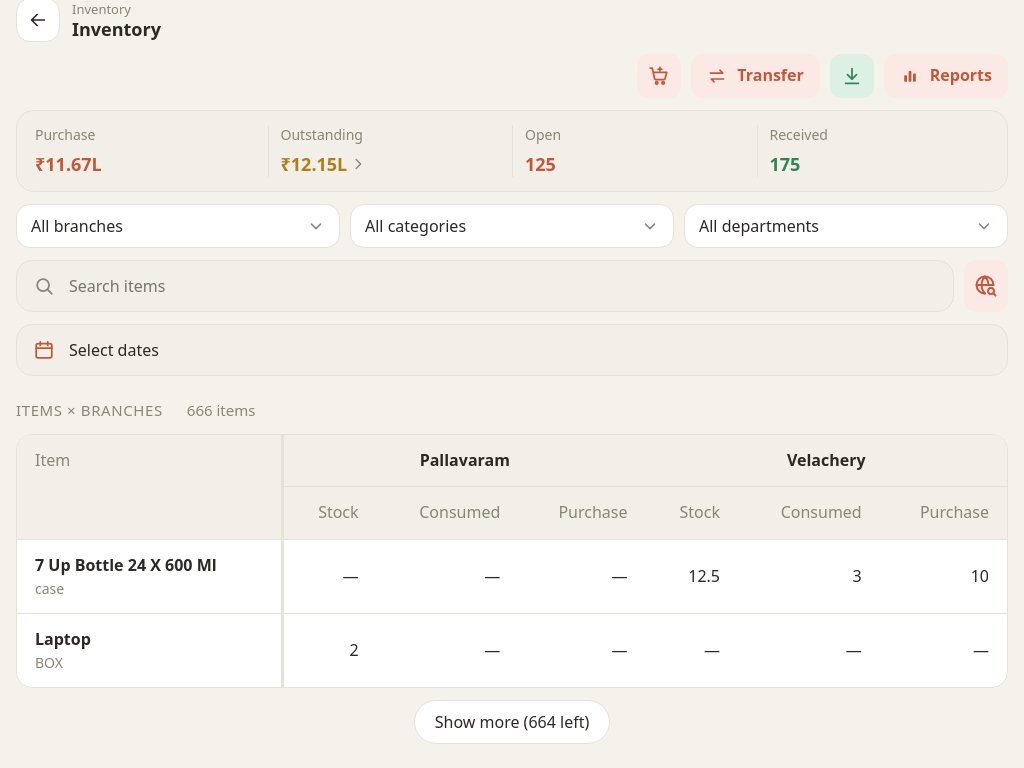
Test: Inventory screen › INV-4. Show more adds the next page under the first
(page scrolled)
Expected: the text "666 items" is shown, [16,400,256,420]
Click the button "Show more (664 left)".
click(512, 722)  # box [414,700,610,744]
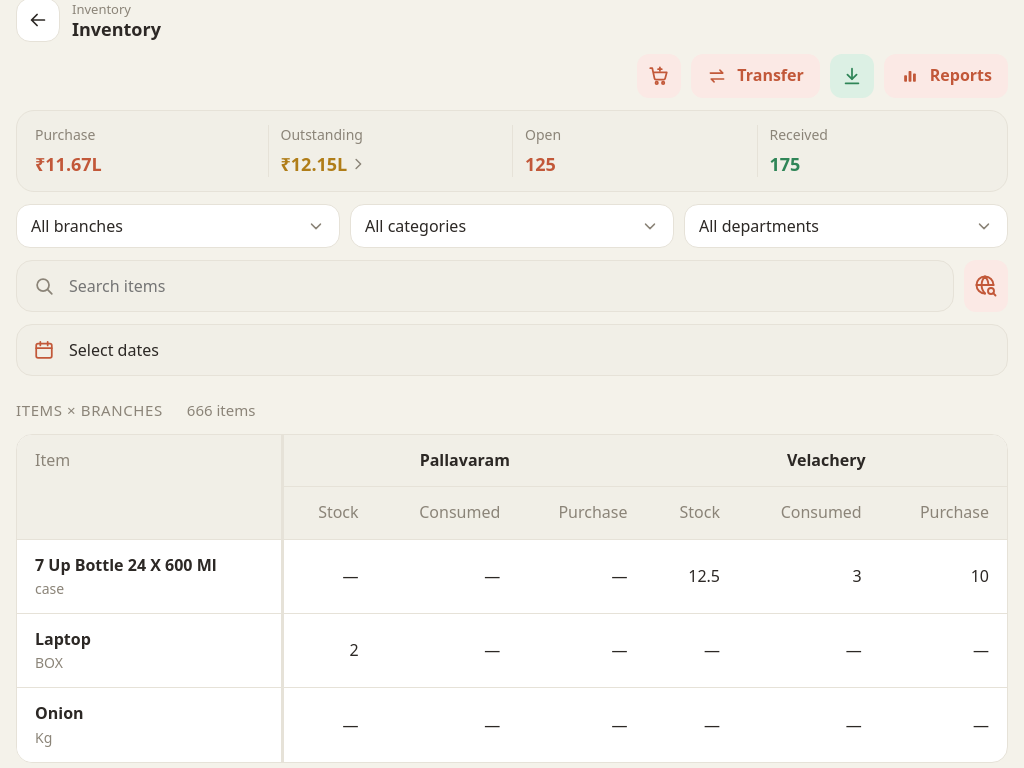
Expected: the text "Laptop" is shown, [35,628,91,650]
Now the text "Onion" is shown, box [35,702,84,724]
